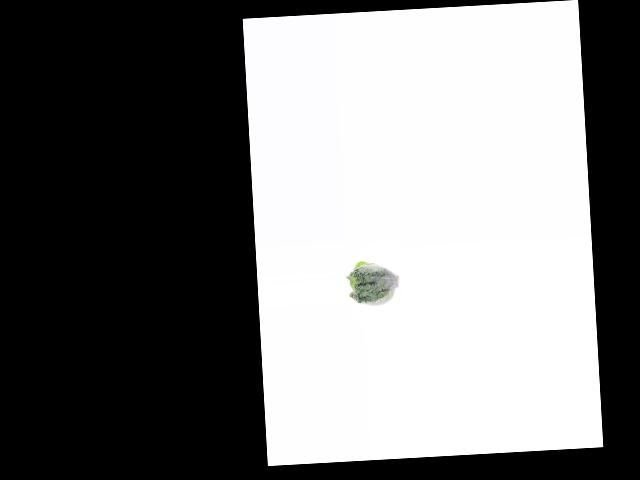lettuce: (346, 256, 400, 308)
